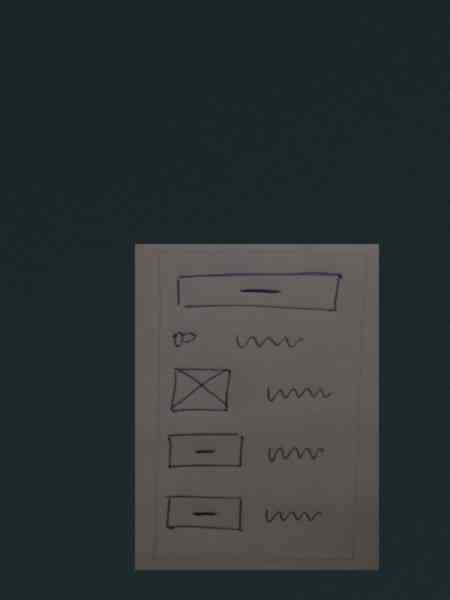button: (173, 270, 343, 316), (164, 429, 246, 472), (164, 490, 246, 533)
image: (165, 364, 234, 417)
switch: (164, 328, 208, 353)
text: (232, 329, 306, 353), (259, 440, 333, 464), (261, 380, 334, 404), (257, 501, 330, 525)
